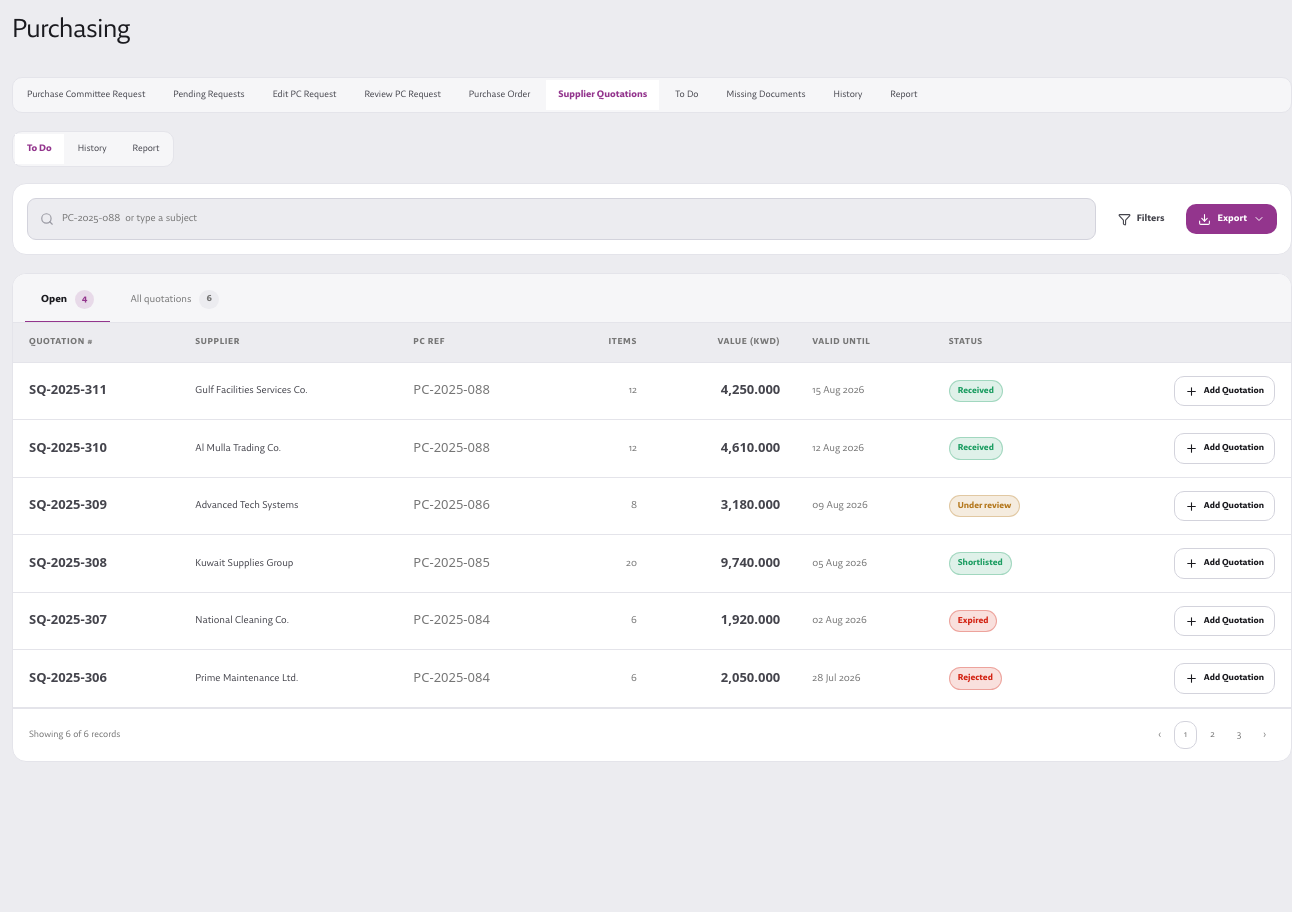
Test: M6.5 Supplier Quotations › renders the permanent report placeholder with a filter and no table
What coordinates should you click on to do the following:
click the button "Report"
I would click on:
 (146, 149)
Its box is [120,134,172,164].
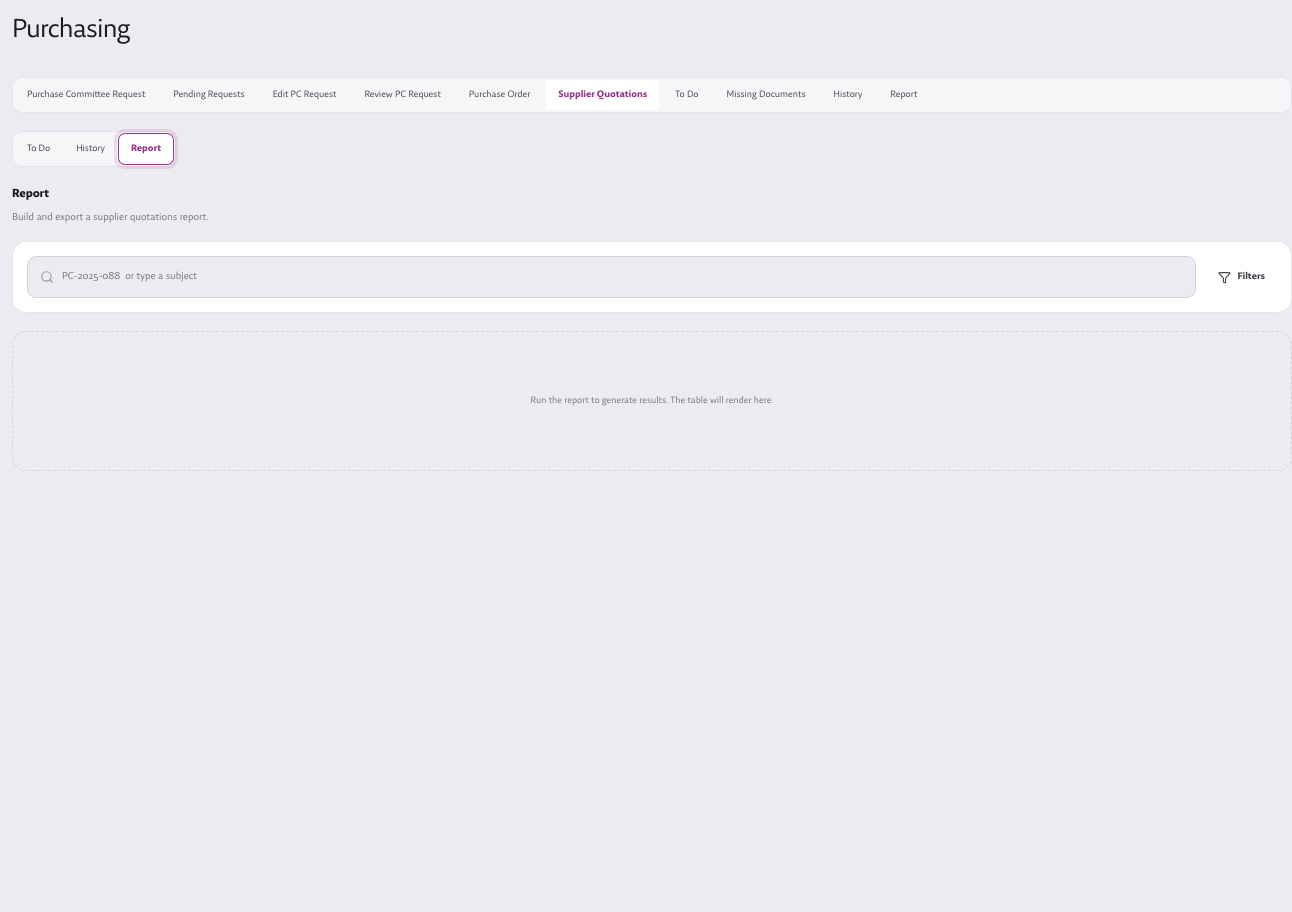
Expected: the field with placeholder "PC-2025-088 or type a subject" is shown, [62,257,1183,297]
Expected: the text "Run the report to generate results. The table will render here." is shown, [12,331,1291,471]
Expected: the table is gone
